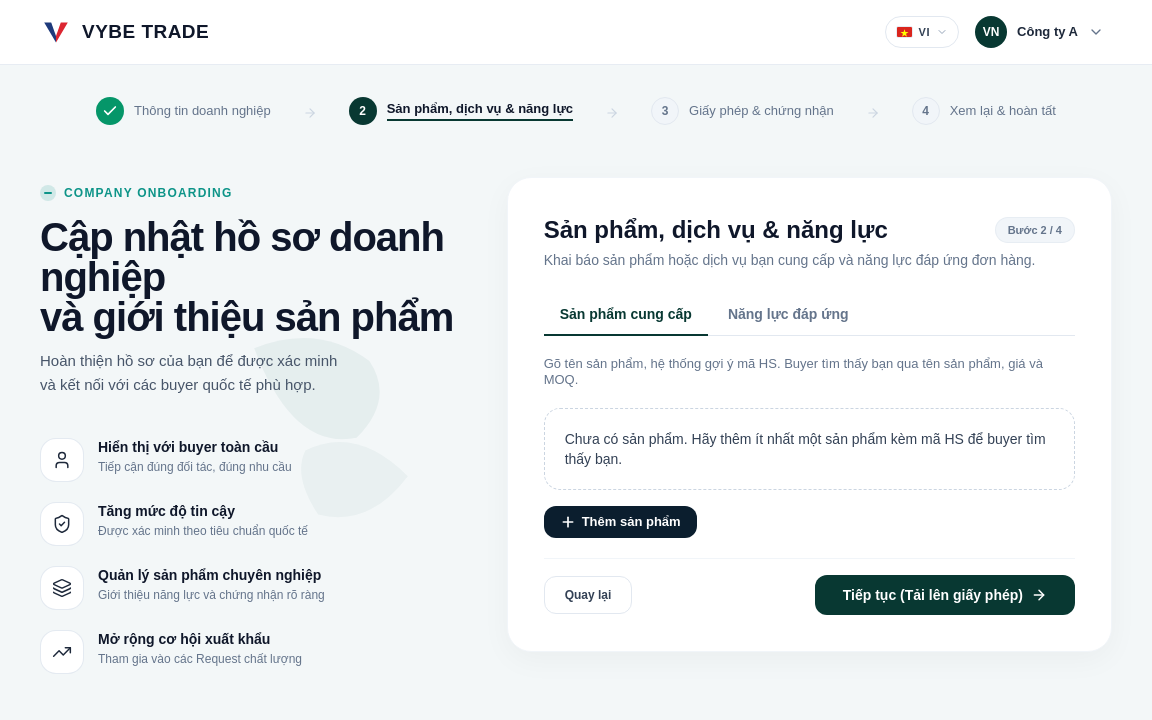
it: SellerOnboarding bước 2 — năng lực và thị trường xuất khẩu cấp công ty (U2) › có khu năng lực đáp ứng: sản lượng, quy mô nhân sự, mã vùng trồng
Click the tab "Năng lực đáp ứng" at (788, 315), box [712,294,864,336]
(page scrolled)
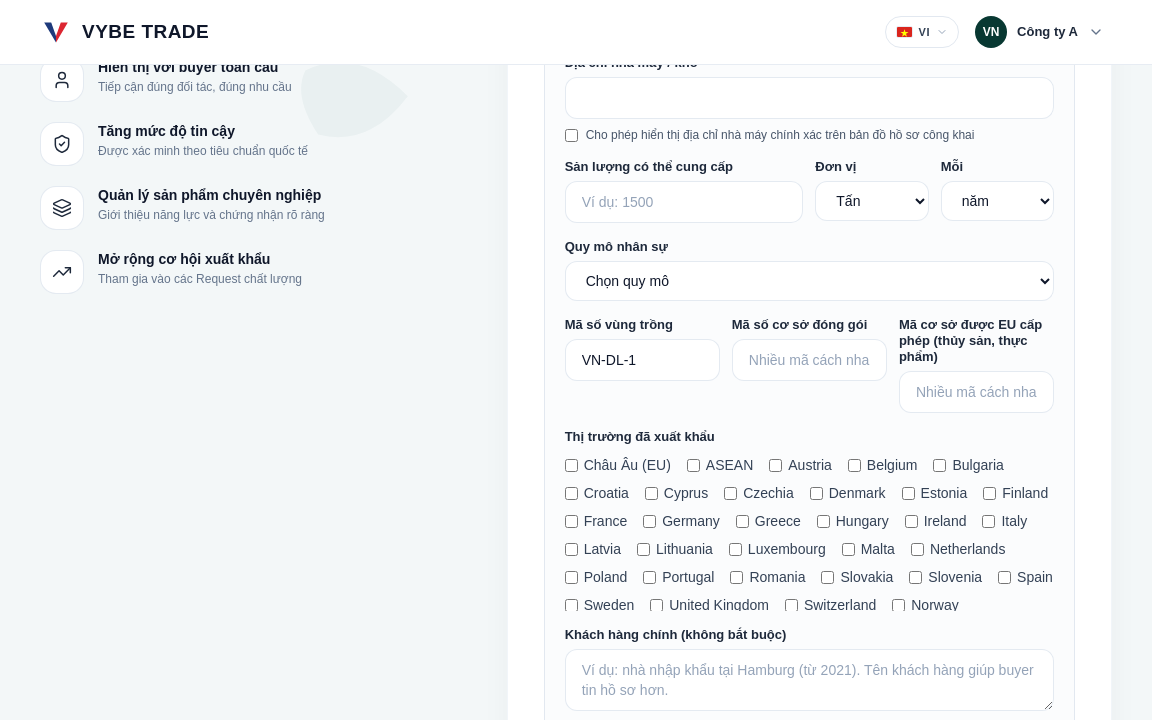
Result: the field labelled "Sản lượng có thể cung cấp" is shown at [565,181,803,223]
Result: the dropdown labelled "Quy mô nhân sự" is shown at [565,261,1054,301]
Result: the field labelled "Mã số vùng trồng" holds "VN-DL-1" at [565,339,720,381]
